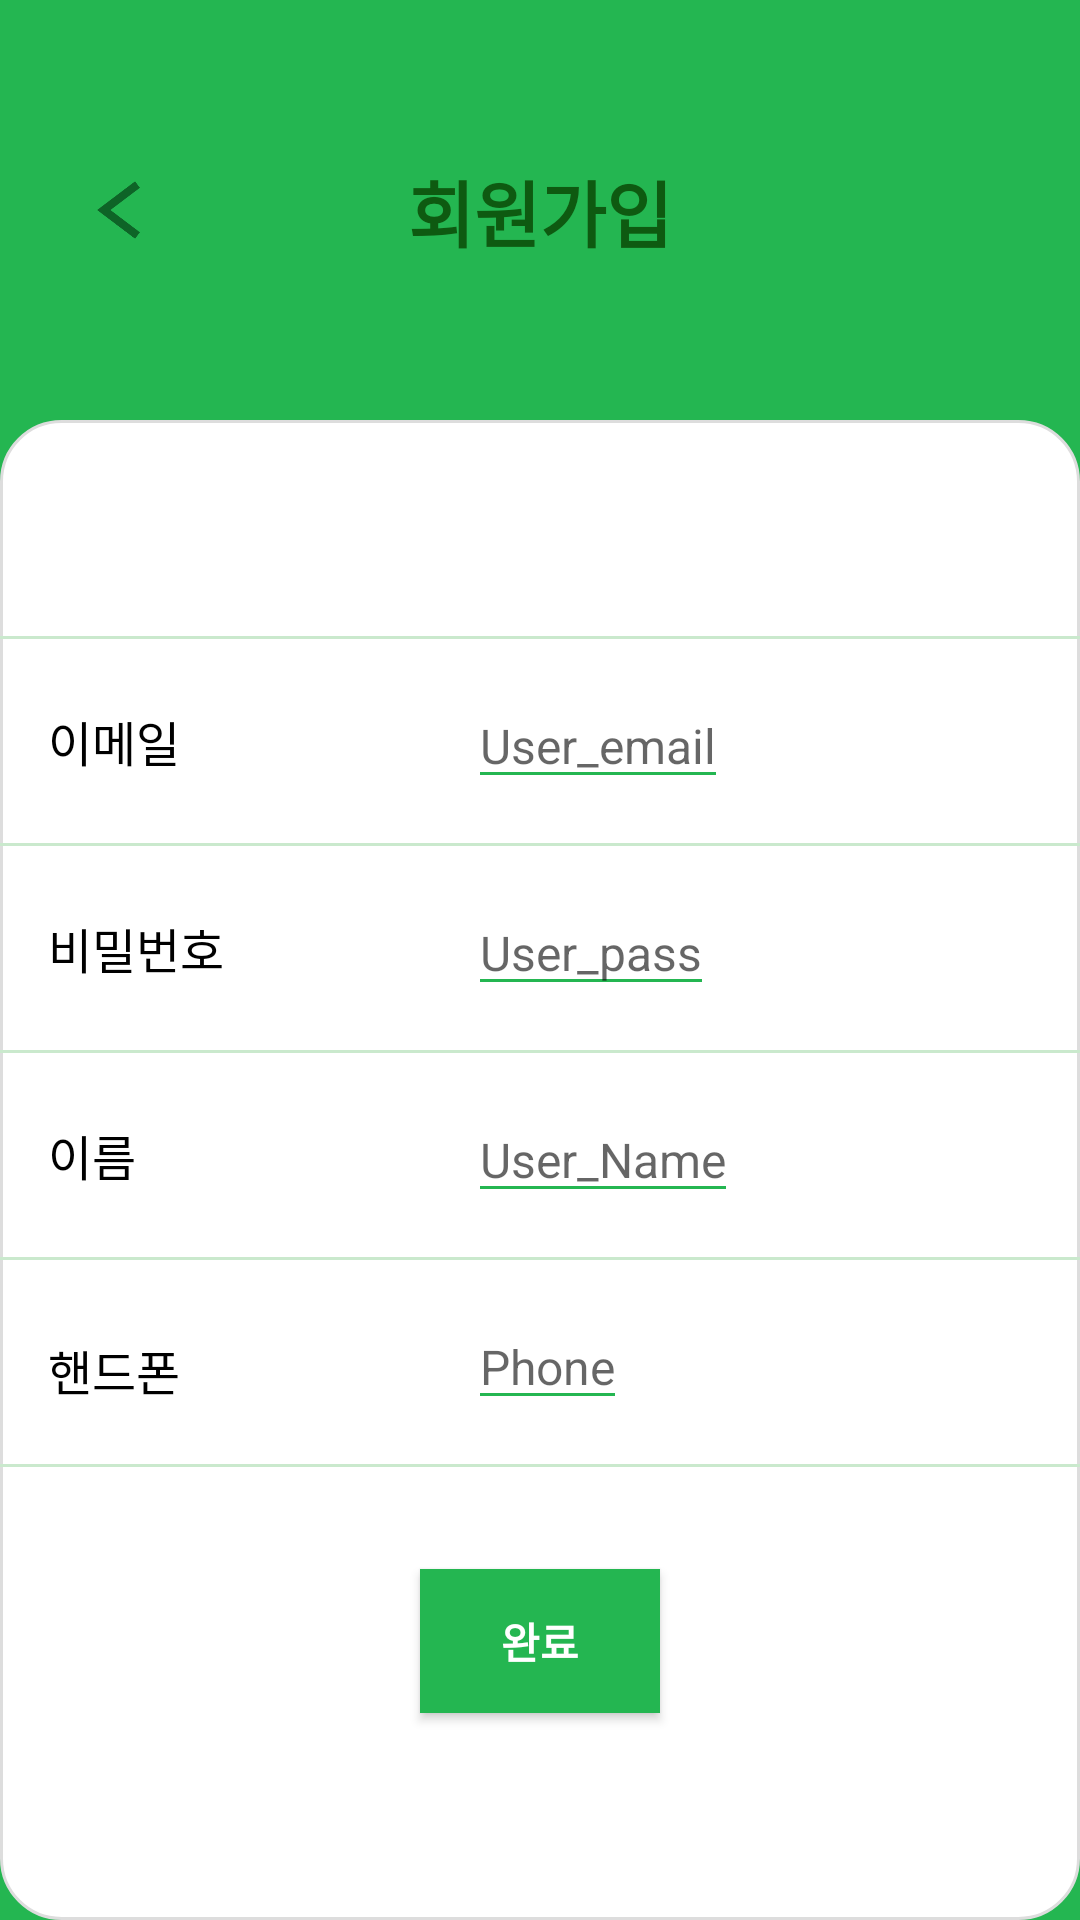

Point at icon controls on the screen. Image size 1080w x 1920h, points as point (x, y).
gohome: point (119, 210)
